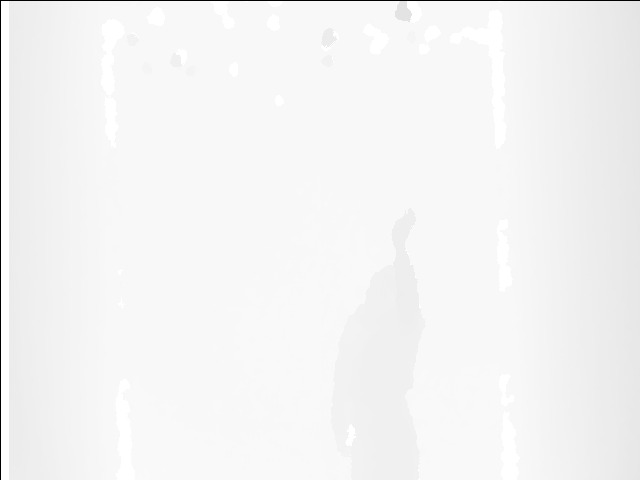hand: (389, 203, 416, 246)
